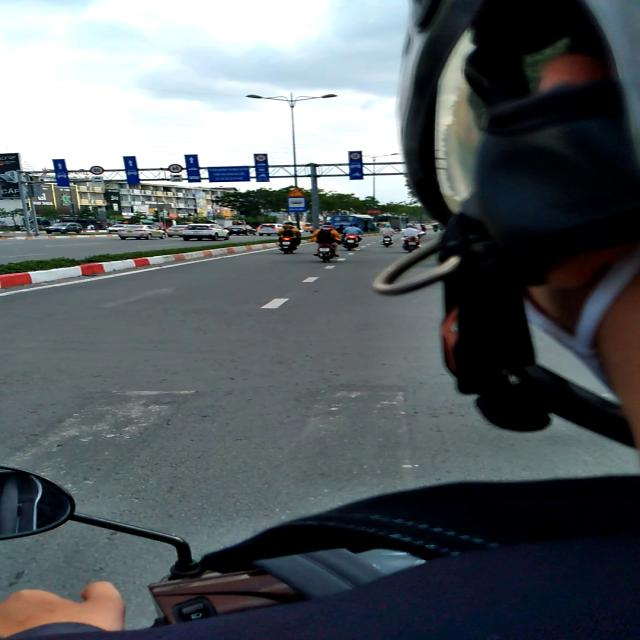Ben xe buyt: (287, 197, 307, 212)
Nguy hiem: (288, 188, 306, 196)
Toc do toi da: (89, 166, 105, 176), (168, 164, 184, 173), (255, 154, 267, 162), (349, 152, 362, 159)
